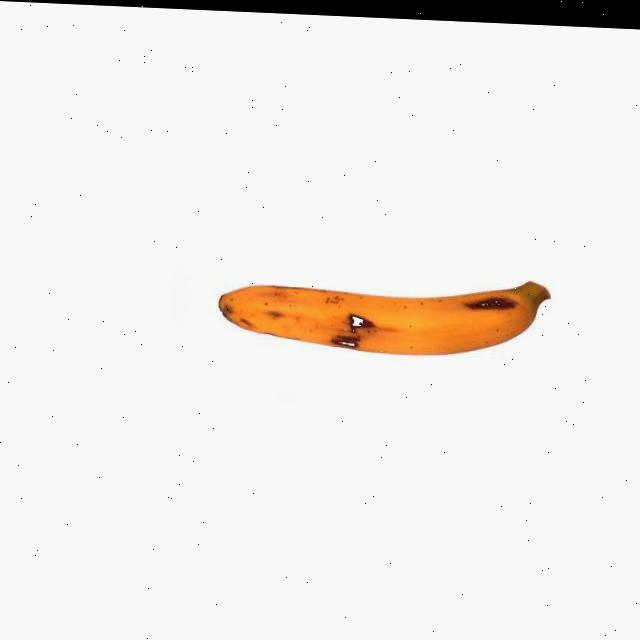banana: (213, 265, 552, 361)
